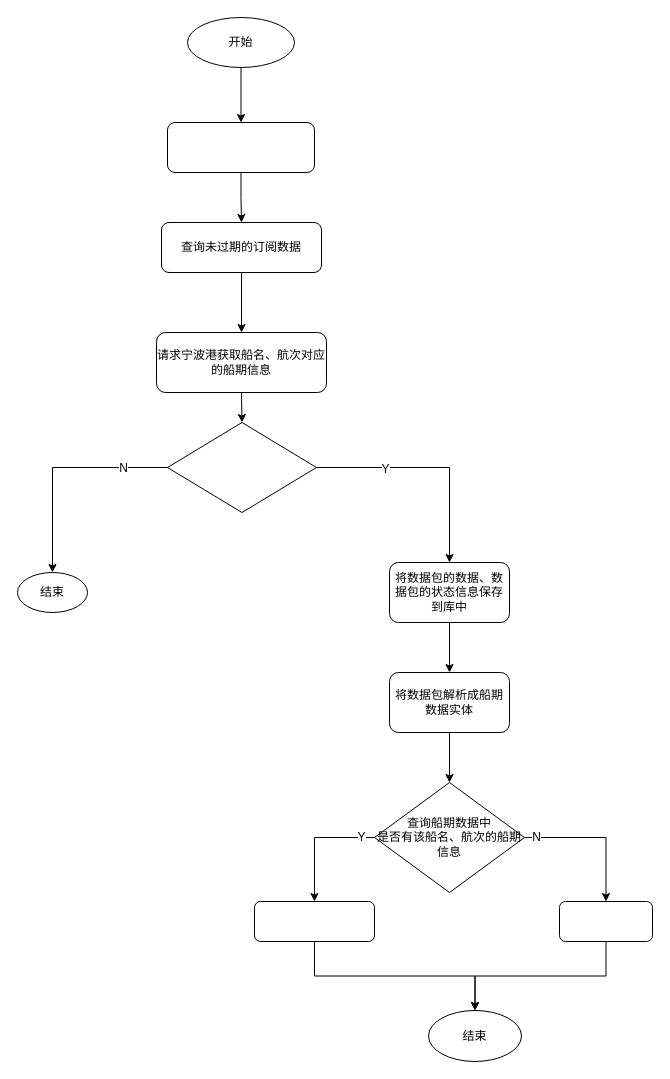
This 670x1079 diagram has some shape labels left out. Here are the shapes that lost their labels. From the top down, the centre of each, then its label:
At (240,147): "将订阅时间超过两个月的变更为过期".
At (241,467): "是否获取到数据".
At (314,921): "更新该船名、航次的船期信息".
At (605,921): "插入数据库".
